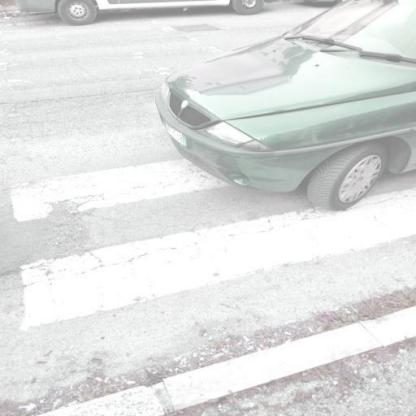crosswalk: (3, 165, 416, 335)
